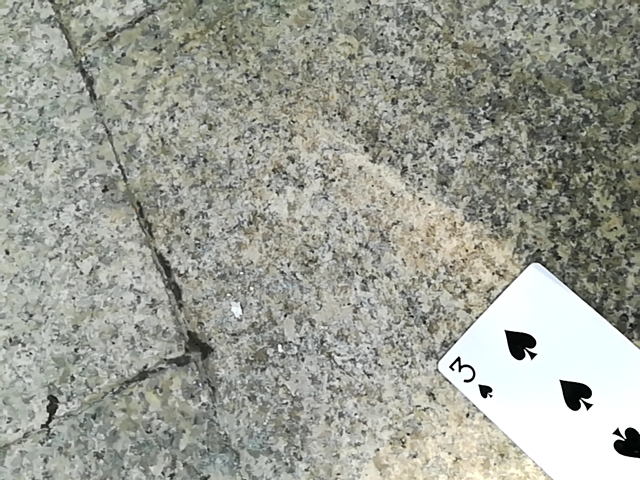ht 3: (435, 266, 639, 480)
